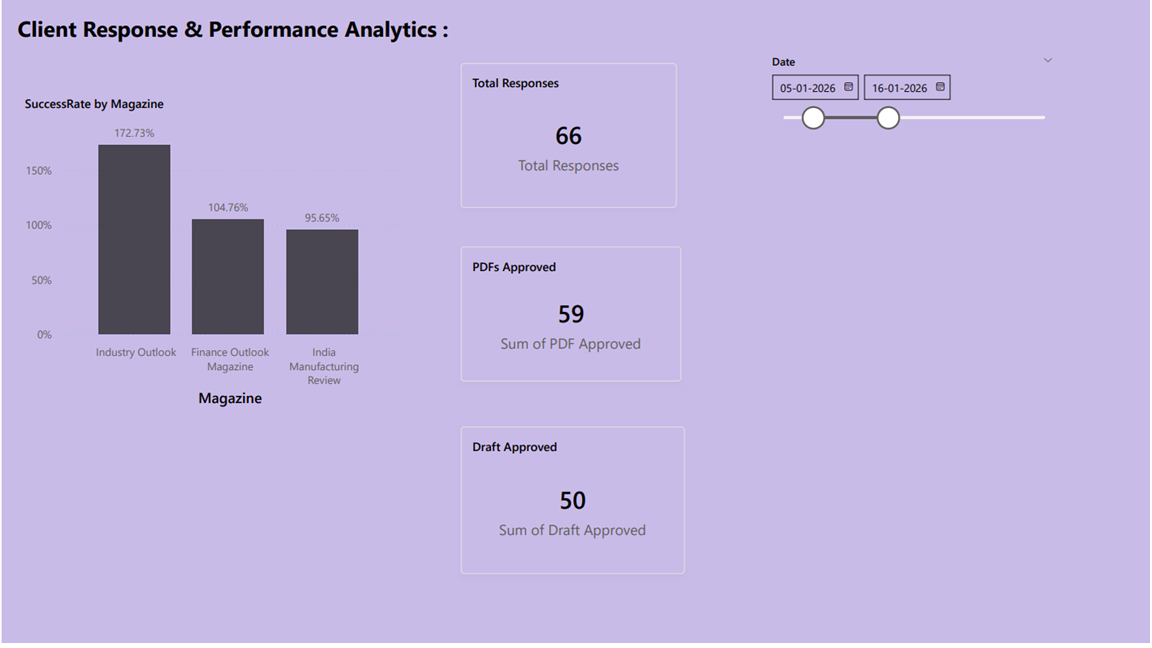

Layout of this report page (visuals, bound fields, positions):
{"tool":"powerbi","page":{"name":"Page 1","canvas":[1280,720],"ordinal":0},"visuals":[{"type":"clusteredColumnChart","fields":{"Category":["Table1.Magazine"],"Y":["Table1.SuccessRate"]},"box":[13.3,94,557.8,369.9],"z":0},{"type":"card","fields":{"Values":["Sum(Table1.Responses Today)"]},"box":[605.9,48.6,240.2,161.9],"z":1000},{"type":"cardVisual","fields":{"Data":["Sum(Table1.Draft Approved)"]},"box":[621.2,311.2,253.8,142.5],"z":2000},{"type":"card","fields":{"Values":["Sum(Table1.PDF Approved)"]},"box":[936.5,48.6,283.4,161.9],"z":3000},{"type":"slicer","fields":{"Values":["Table1.Date"]},"box":[892.5,245,327.5,106.2],"z":4000},{"type":"textbox","box":[13.3,9.6,559,49.4],"z":5000}]}

Visuals, with their boxes in screenshot pixels (x1, y1, x2, y2), scaled from the page's 1280x720 canvas onto the 1152x648 screenshot:
clusteredColumnChart - Table1.Magazine x Table1.SuccessRate: 12/85/514/418
card - Sum(Table1.Responses Today): 545/44/761/189
cardVisual - Sum(Table1.Draft Approved): 559/280/788/408
card - Sum(Table1.PDF Approved): 843/44/1098/189
slicer - Table1.Date: 803/220/1098/316
textbox: 12/9/515/53
